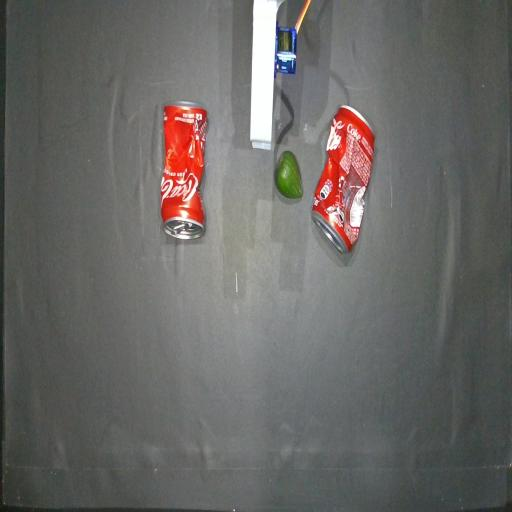higo: (275, 151, 303, 199)
lata_defectuoso: (312, 106, 374, 251), (160, 101, 207, 239)
